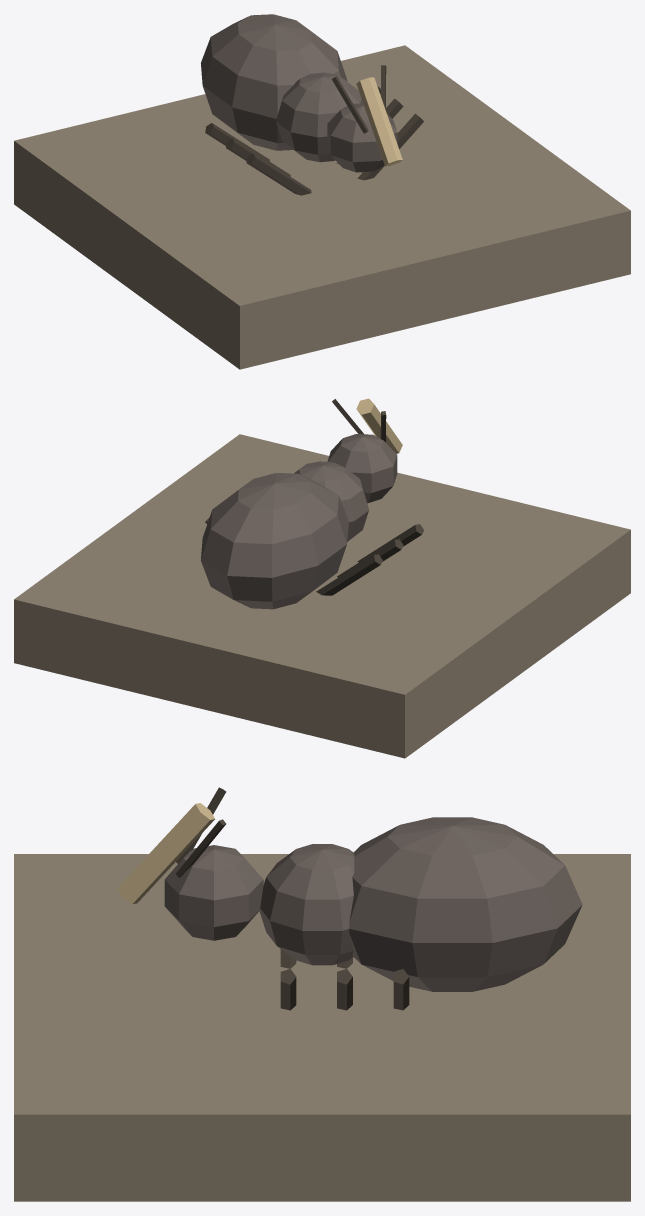
The model's file is bug_rhino.glb.
3 views of the same model, one above another, from view 1: azimuth 30°, elevation 25°; view 2: azimuth 150°, elevation 25°; view 3: azimuth 270°, elevation 25° (orthographic). The views are drawn at different scales.
Visible parts, largest first — view 1: Base, TurretMesh, HeadMesh; view 2: Base, TurretMesh, HeadMesh; view 3: Base, TurretMesh, HeadMesh.
Boxes of the visible parts, x1,y1,x2,y2 form: Base: (14,45,630,369); TurretMesh: (201,14,423,195); HeadMesh: (327,65,402,172); Base: (14,434,630,758); TurretMesh: (201,461,424,609); HeadMesh: (327,398,402,503); Base: (14,854,630,1201); TurretMesh: (259,817,582,1010); HeadMesh: (117,787,263,940).
Size of the model in its own units: 1.8 by 0.8608 by 1.8.
